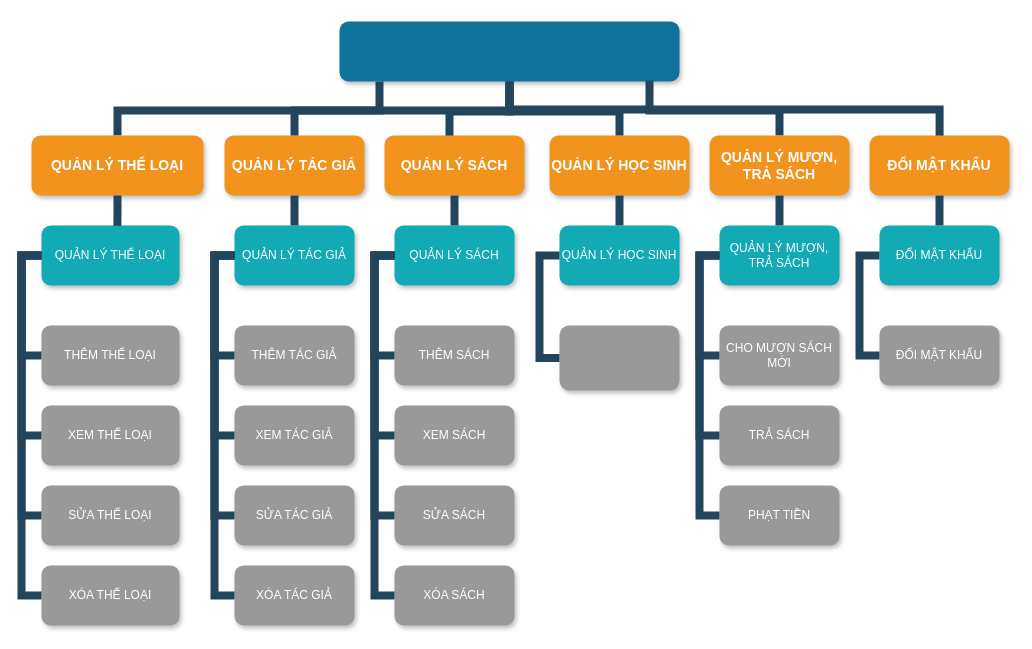
Image size: 1032x649. Some labels were removed from this diagram. The centre of each missing label's shape, as x and y in pixels:
"HỆ THỐNG QUẢN LÝ THƯ VIỆN THPT ABC" goes at pixel 510 52.
"KÍCH HOẠT HOẶC HỦY KÍCH HOẠT TÀI KHOẢN HỌC SINH" goes at pixel 620 359.
